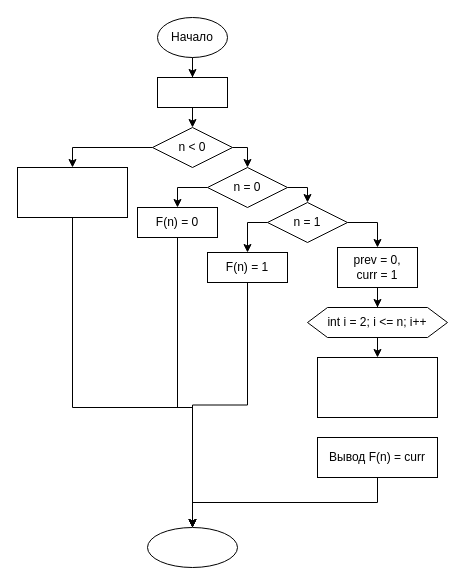
Image size: 465x585. Some labels were removed from this diagram. The shapes that lost their labels are listed below. From the top down, each one's box as (x1, y1, x2, y2) in pixels, then its label:
(156, 76, 228, 108): Ввод n
(16, 166, 128, 218): Сообщение об ошибке
(316, 356, 438, 418): next = prev + curr prev = curr curr = next
(146, 526, 238, 568): Конец
